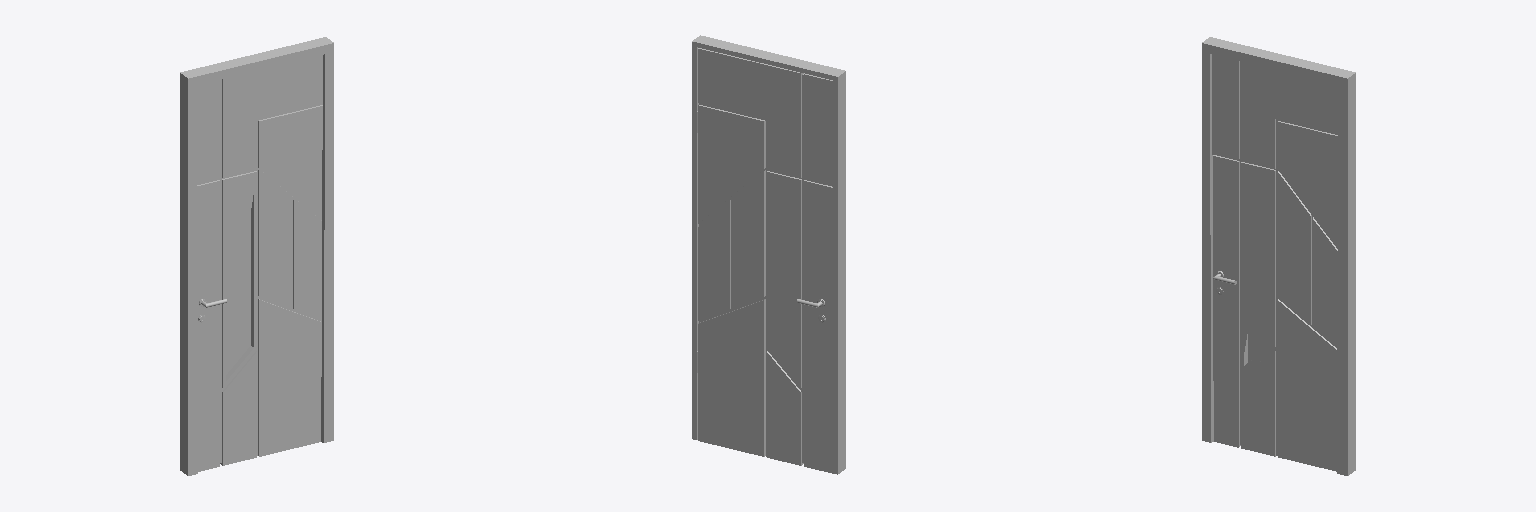
Rendered from Door 2.obj.
The picture shows the model from 3 angles: view 1: azimuth 30°, elevation 25°; view 2: azimuth 150°, elevation 25°; view 3: azimuth 330°, elevation 25°; orthographic projection.
Size of the model in its own units: 1.08 by 2.81 by 0.213.